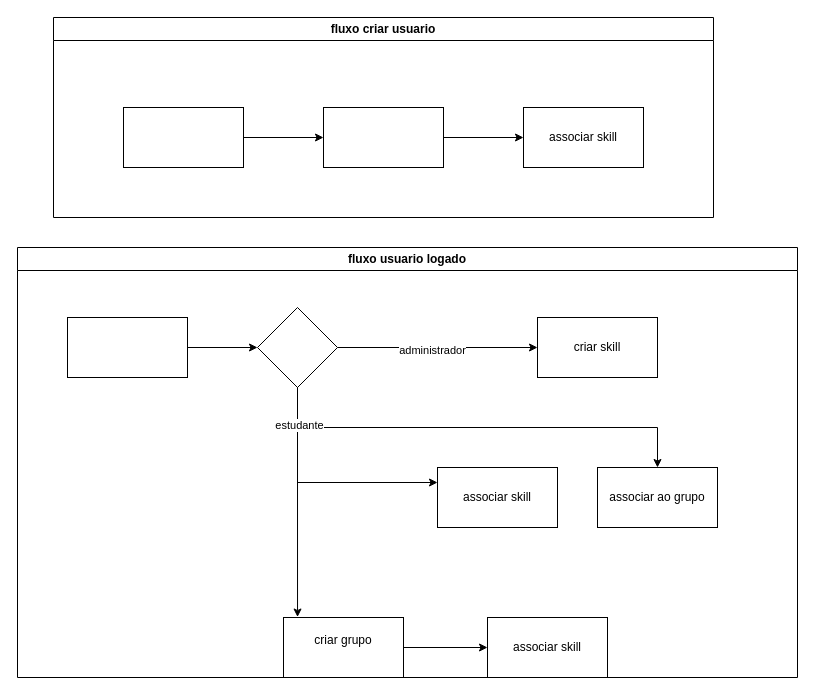
Some shapes in this 815 by 695 pixel diagram are drawn without their labels. Each missing label, with the centre of its shape:
criar login: the point at 383,137
criar usuario: the point at 183,137
efetuar login: the point at 127,347
verificar perfil: the point at 297,347
